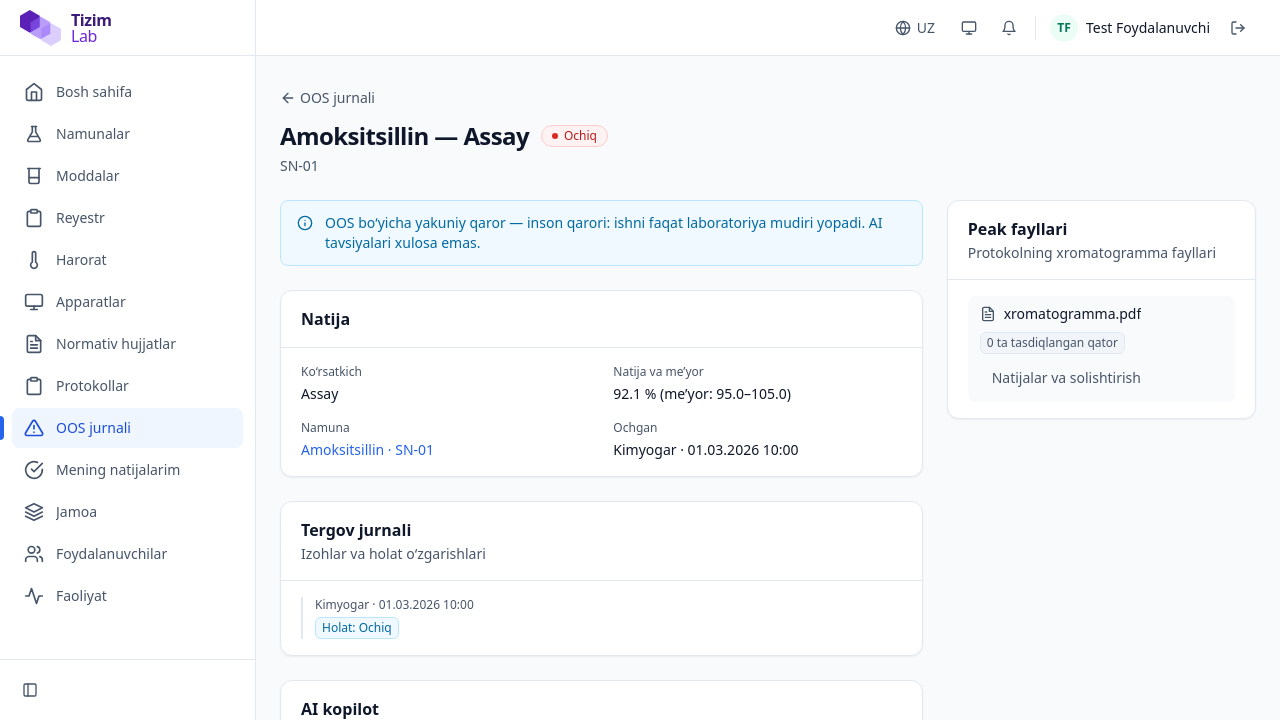
Test case: P19: peak natijalari va tarix bilan solishtirish › solishtirish: belgilar jadvalda; no_history — bo‘sh holat; singleRun — RSD izohi
Click the button "Natijalar va solishtirish": (1066, 378) left=980, top=362, right=1153, bottom=394
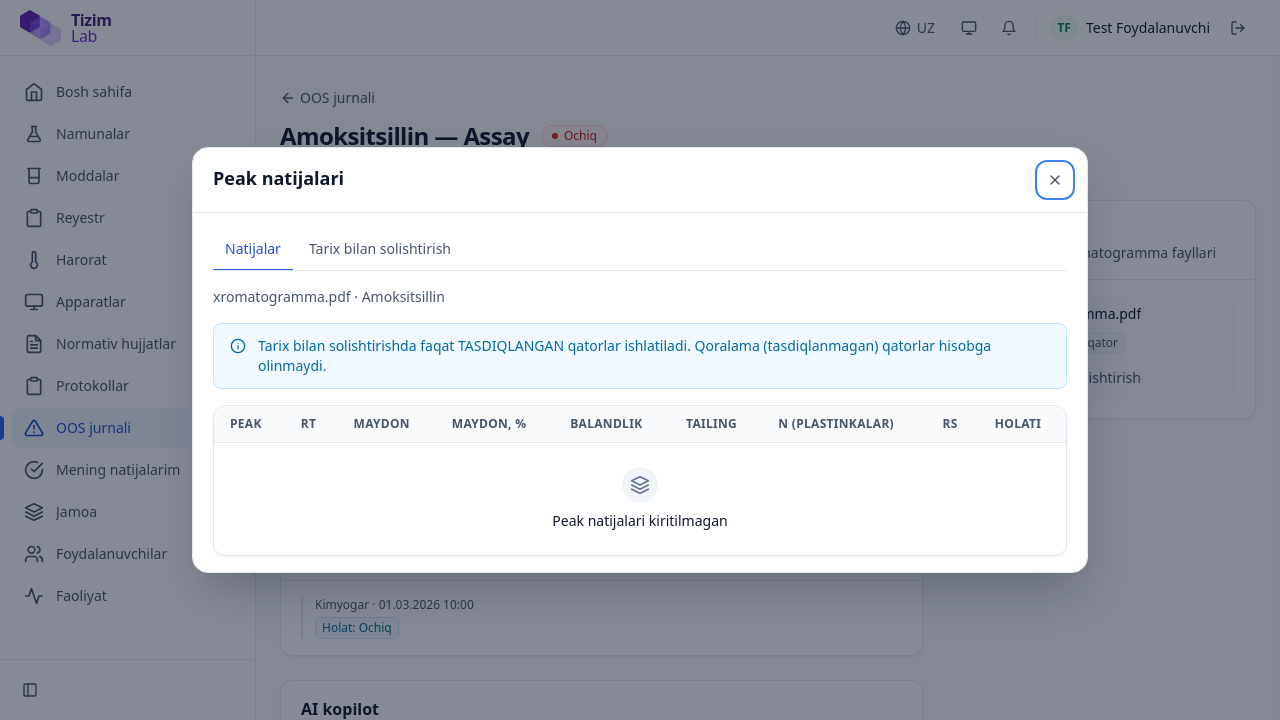
Click the tab "Tarix bilan solishtirish": (380, 250) left=297, top=229, right=463, bottom=271
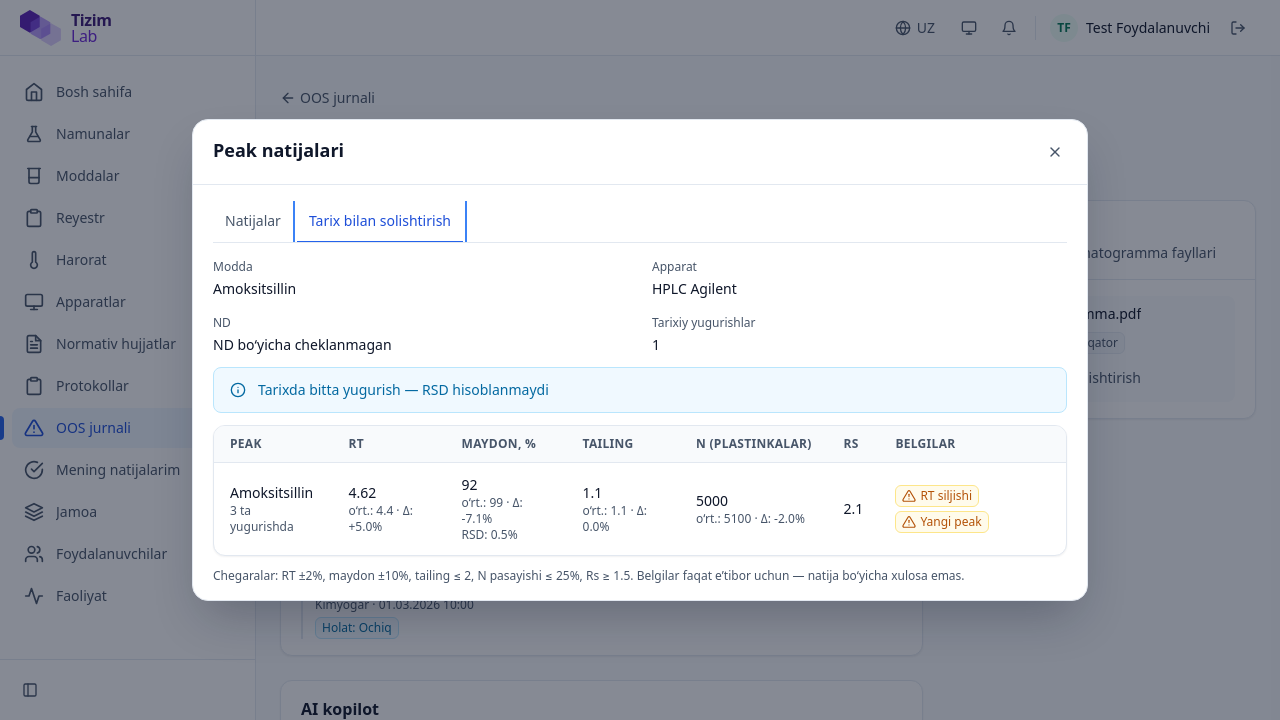
Check: the text "RT siljishi" is shown, box left=895, top=485, right=979, bottom=507
Check: the text "Yangi peak" is shown, box left=895, top=511, right=989, bottom=533
Check: the text "Tarixda bitta yugurish — RSD hisoblanmaydi" is shown, box left=258, top=380, right=549, bottom=399
